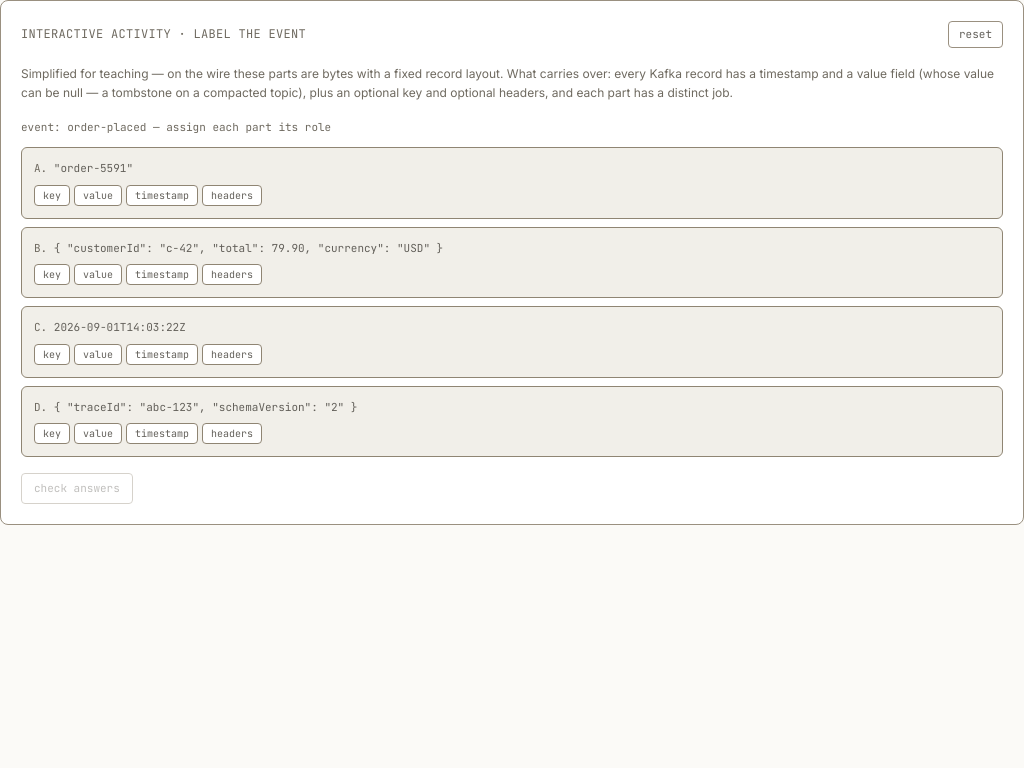
Test: LabelTheEventDemo › moves on to the sensor-reading sample
Step 1. Click the button "key" below "\"order-5591\"" → click(52, 195), box [34,184,70,206]
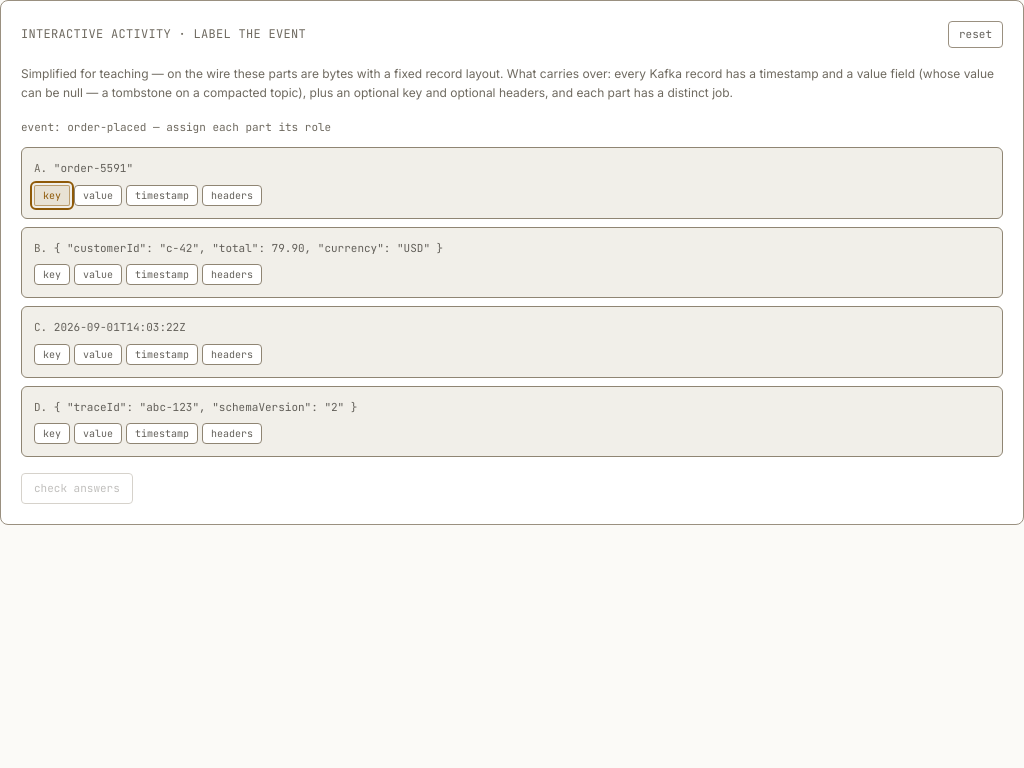
Step 2. Click the 2nd button "value" → click(98, 274), box [74,264,122,285]
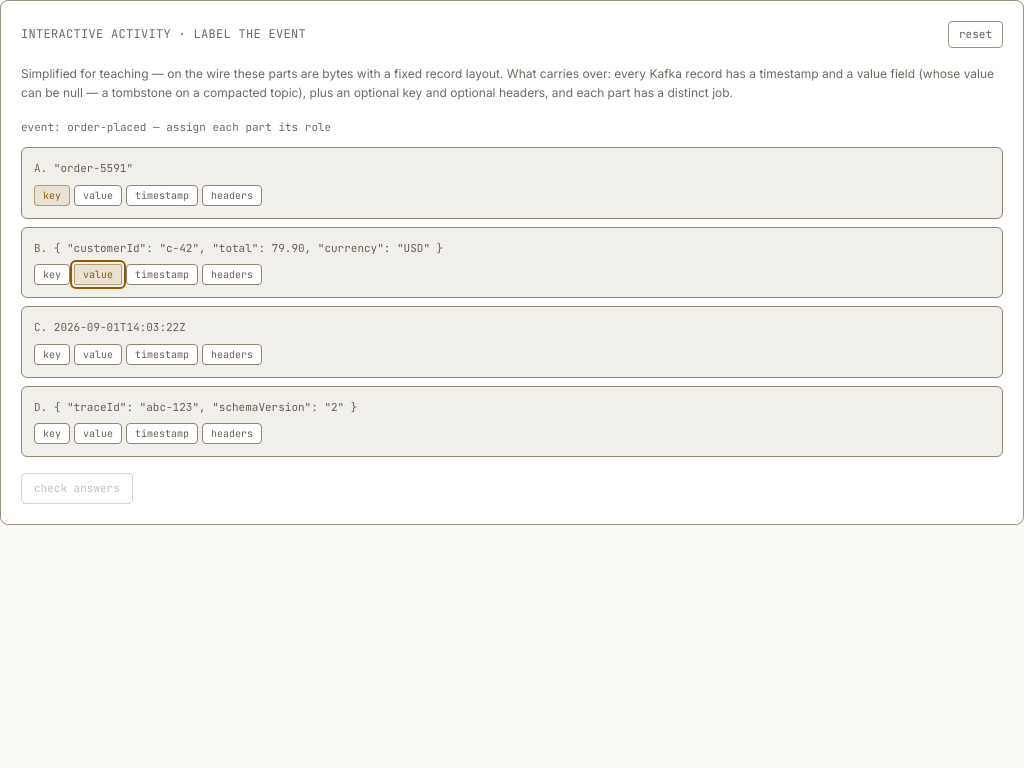
Step 3. Click the button "timestamp" below "2026-09-01T14:03:22Z" → click(162, 354), box [126,344,198,364]
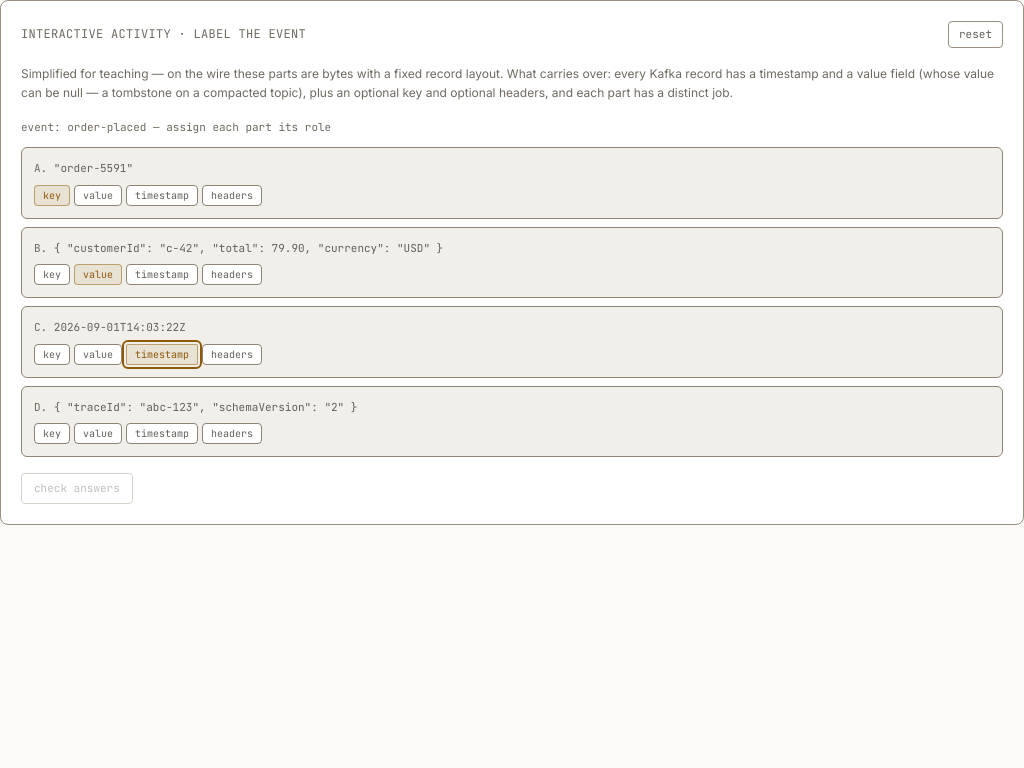
Step 4. Click the 4th button "headers" → click(232, 434), box [202,423,262,444]
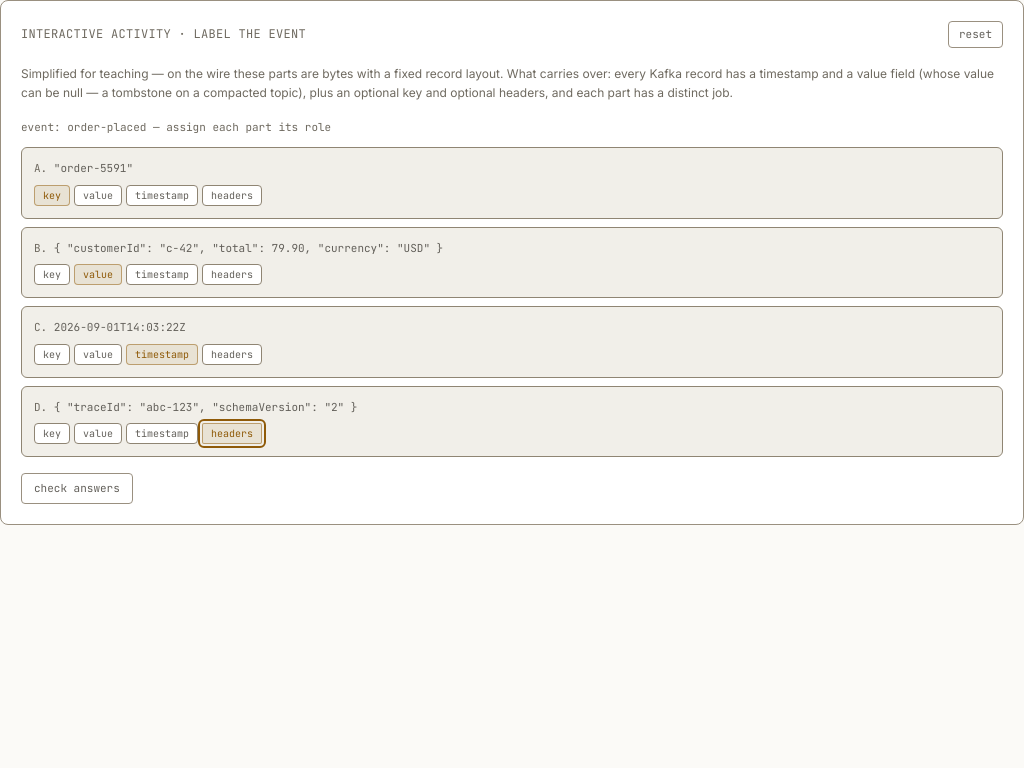
Step 5. Click the button "check answers" → click(77, 488), box [21,473,133,504]
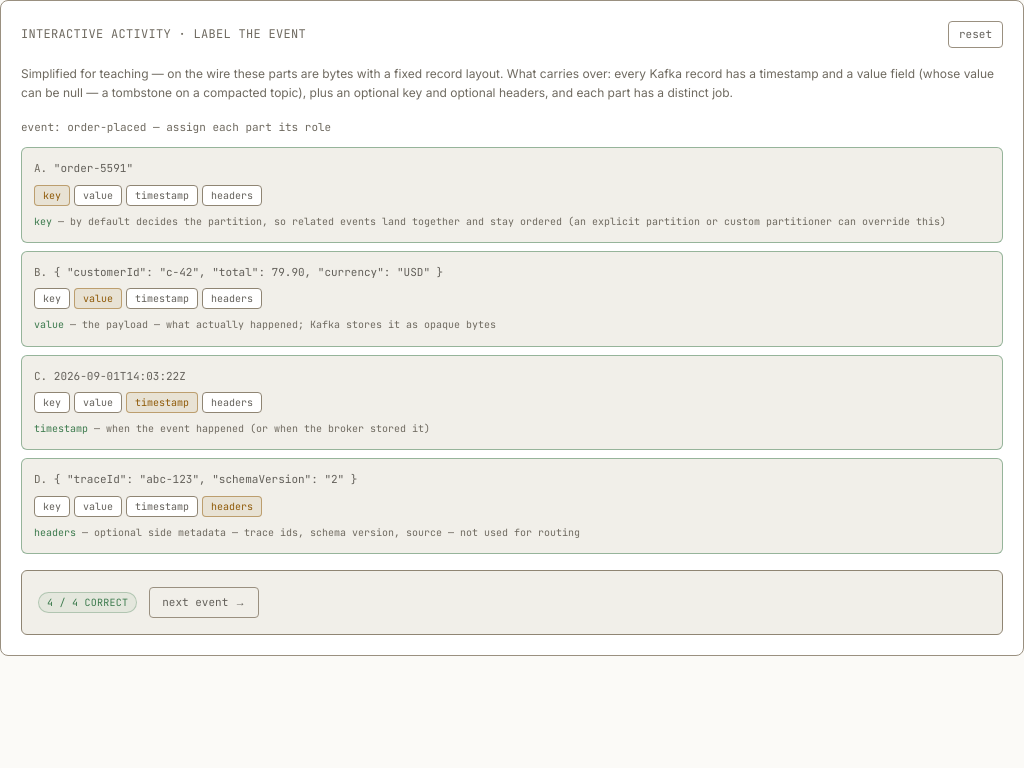
Step 6. Click the button "next event →" → click(204, 602), box [149,587,259,618]
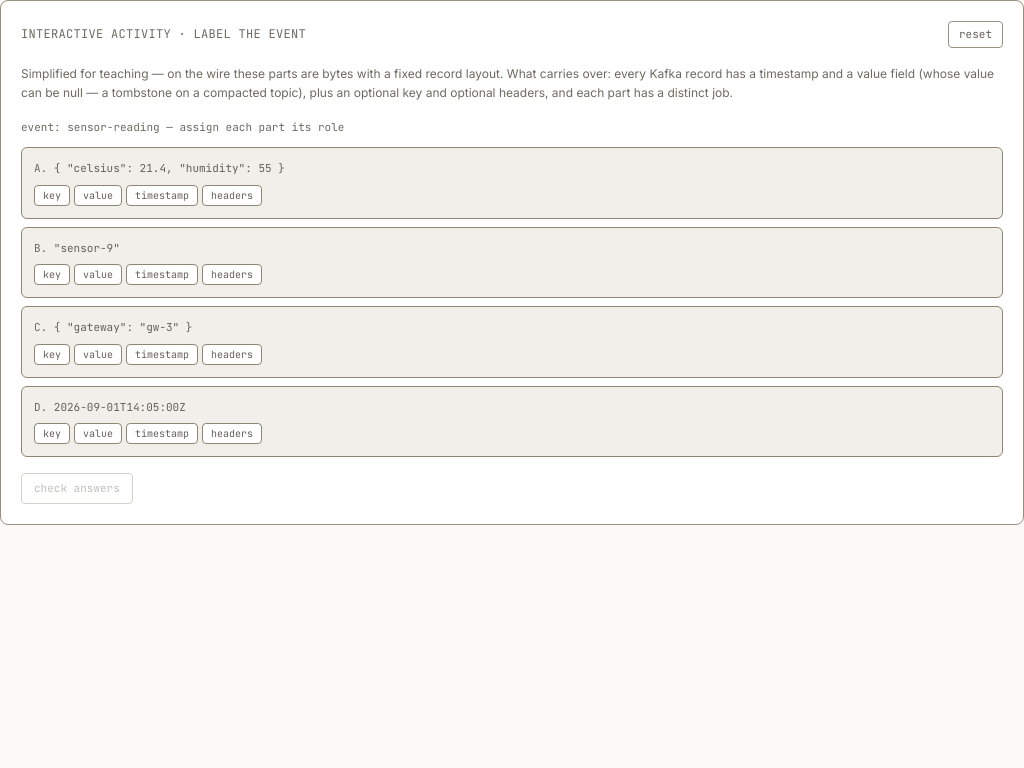
Check: the text "event: sensor-reading — assign each part its role" is shown, box [21,120,344,134]
Check: the element with test id "wk-label-part-A" shows "\"celsius\"", box [54,161,285,175]
